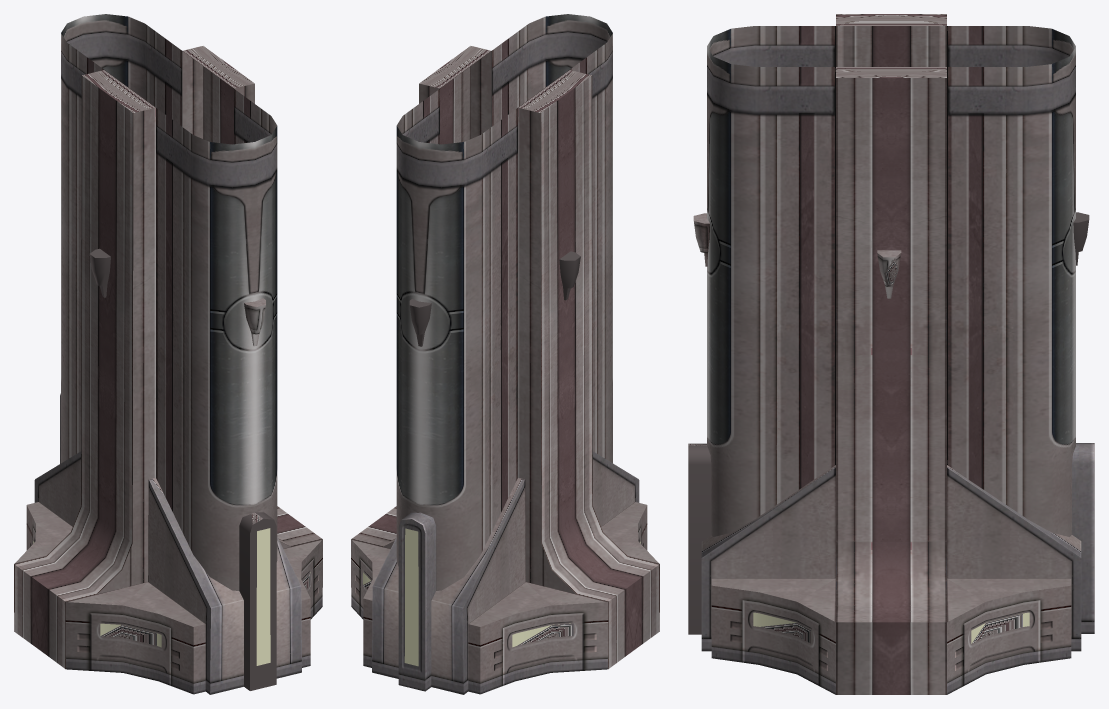
The model's file is cor1_prop_piller_short.fbx.
3 renders of one model, left to right at view 1: azimuth 30°, elevation 25°; view 2: azimuth 150°, elevation 25°; view 3: azimuth 270°, elevation 25°, orthographic. The views are drawn at different scales.
Parts seen in each view (by area): view 1: piller_short, cube65, polymsh_extracted299, polymsh_extracted300, cylinder218, cylinder216; view 2: piller_short, cube70, polymsh_extracted302, polymsh_extracted303, cylinder218, cylinder217; view 3: piller_short, cube65, cube70, polymsh_extracted301, polymsh_extracted298, cylinder219.
Part boxes in pixels (x1,y1,x2,y2): piller_short: (14,14,322,694); cube65: (239,512,276,690); polymsh_extracted299: (256,528,270,665); polymsh_extracted300: (100,623,161,647); cylinder218: (89,248,110,297); cylinder216: (244,298,265,346); piller_short: (351,14,659,694); cube70: (398,512,436,691); polymsh_extracted302: (404,528,418,666); polymsh_extracted303: (512,623,573,647); cylinder218: (559,251,580,300); cylinder217: (409,299,431,346); piller_short: (701,14,1081,694); cube65: (688,443,711,634); cube70: (1072,443,1094,633); polymsh_extracted301: (971,612,1029,643); polymsh_extracted298: (753,612,811,643); cylinder219: (877,250,901,298).
Size of the model in its own units: 4.52 by 9.06 by 5.75.
